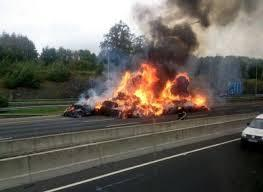fire: (118, 76, 199, 111)
smoke: (152, 13, 192, 61), (194, 3, 234, 21)
